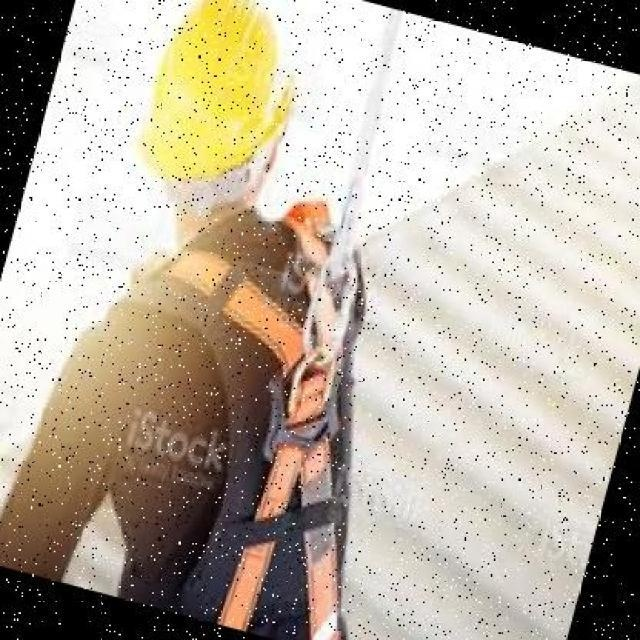Arnes_seguridad: (48, 152, 456, 640)
